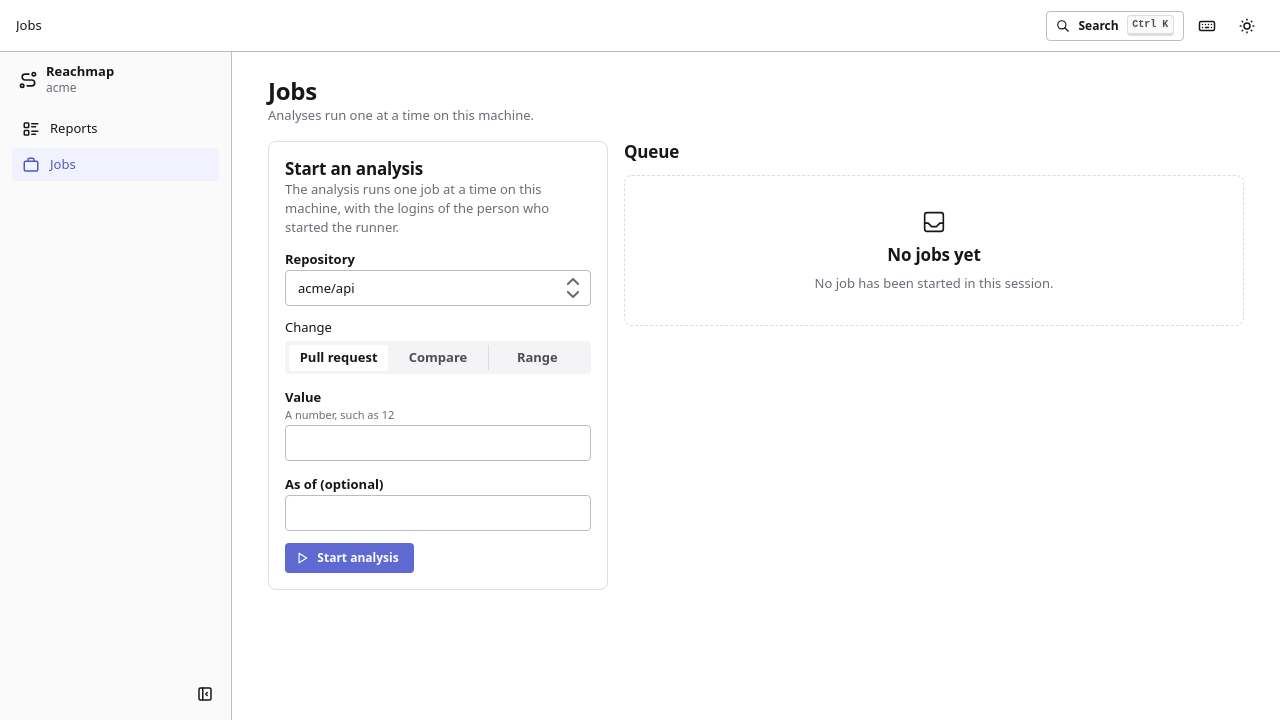
Test: the frame › marks the page of the navigation that is open, and collapses the sidebar to icons
Click the button named "Collapse the sidebar". click: (205, 694)
box: [191,680,219,708]
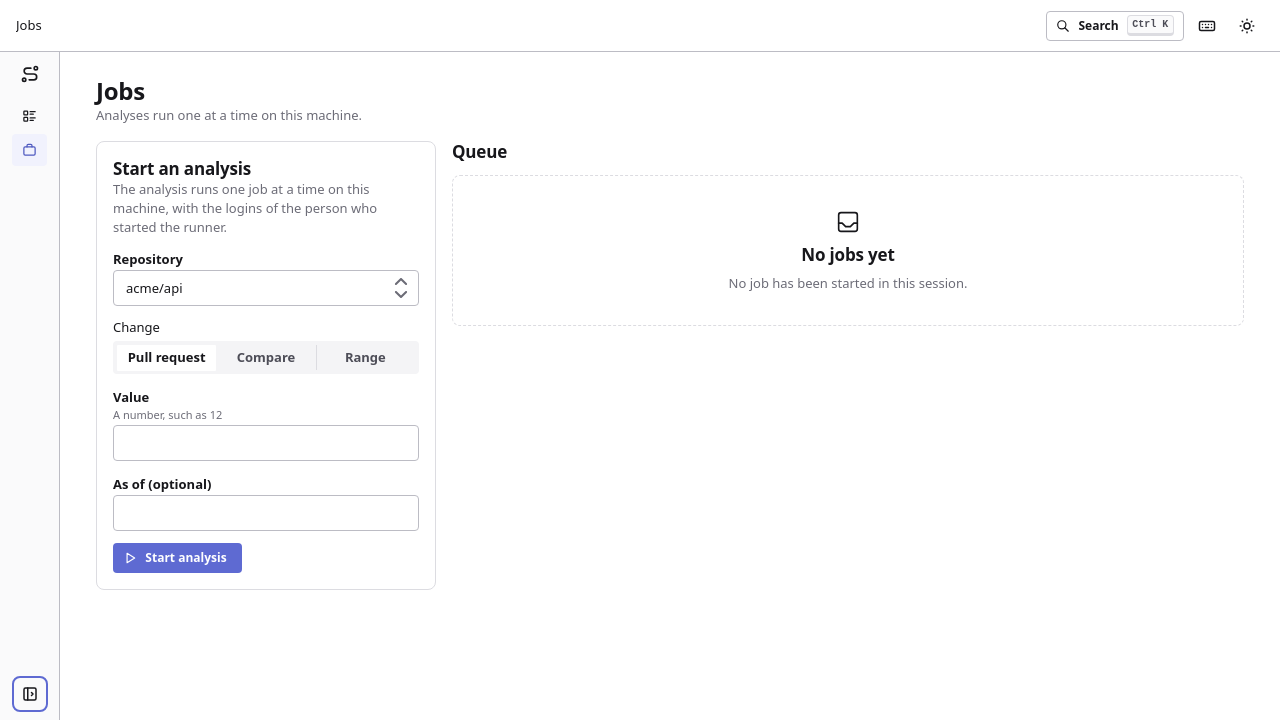
Now the link named "Jobs" is empty, box [12,134,47,166]
Click the button named "Expand the sidebar". click: (30, 694)
box: [16,680,44,708]
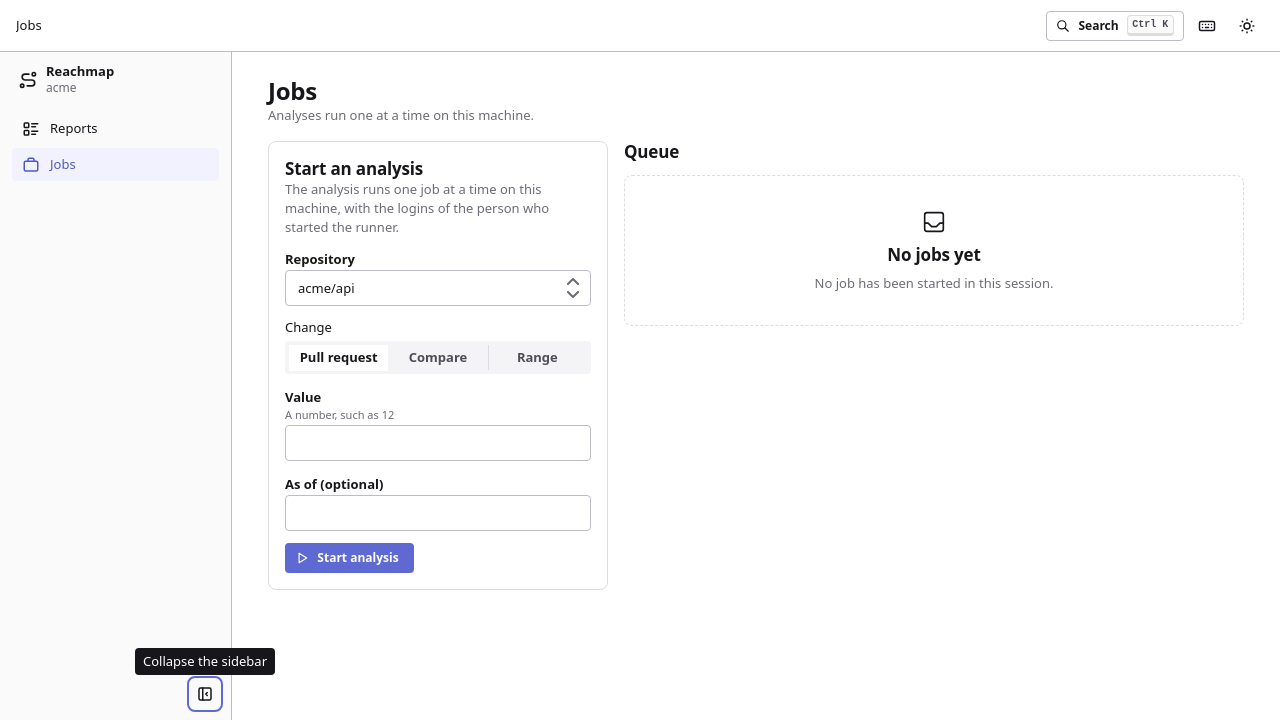
Now the link "Jobs" is shown, box [12,148,219,181]
